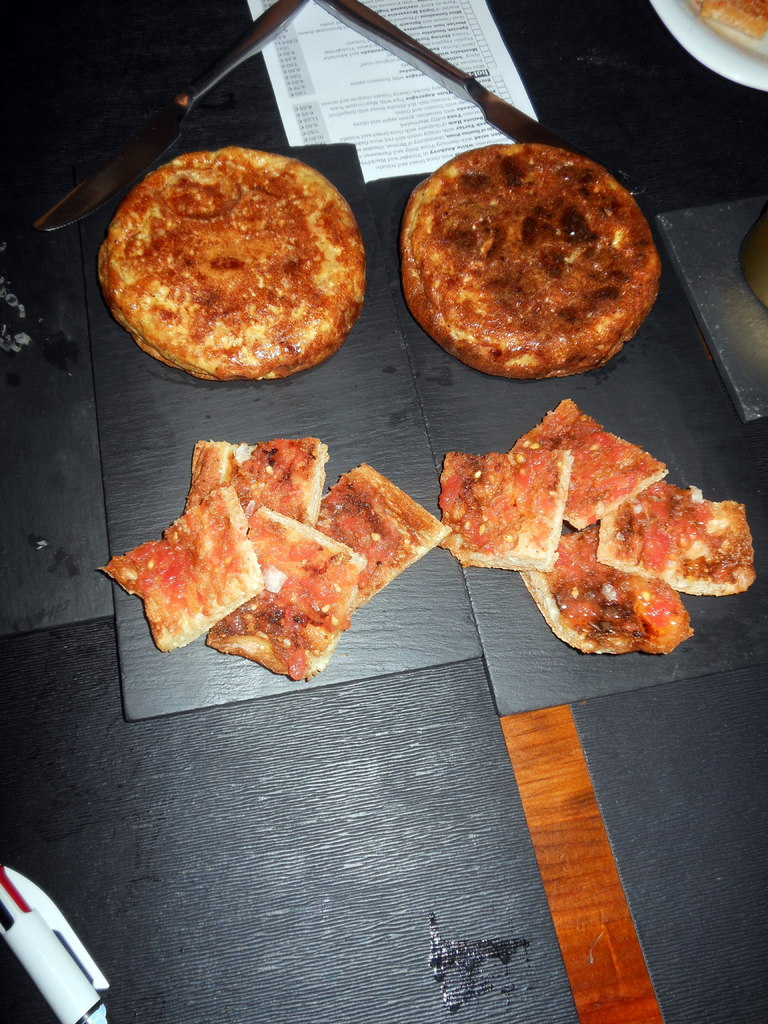pizza: (90, 395, 755, 682), (92, 431, 452, 682), (447, 400, 762, 657), (397, 140, 667, 381), (93, 145, 365, 384)
